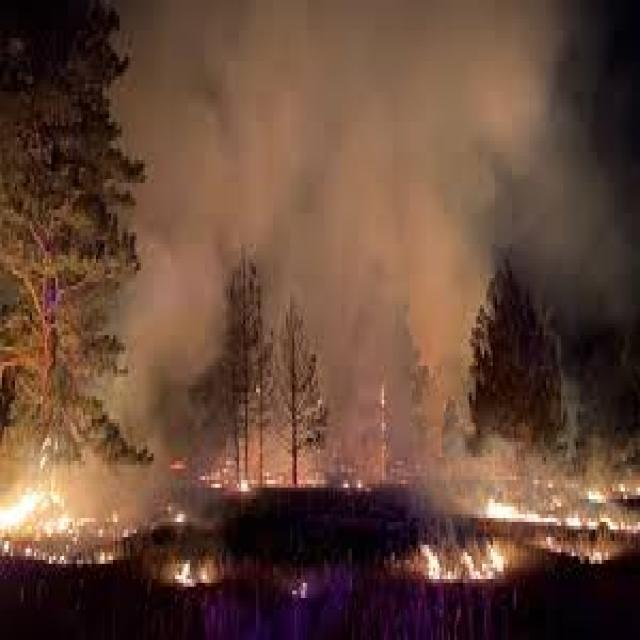Fire: (390, 453, 640, 598), (0, 459, 132, 589), (396, 526, 520, 602), (153, 548, 233, 602)
Smoke: (147, 0, 640, 244), (332, 0, 468, 505)
